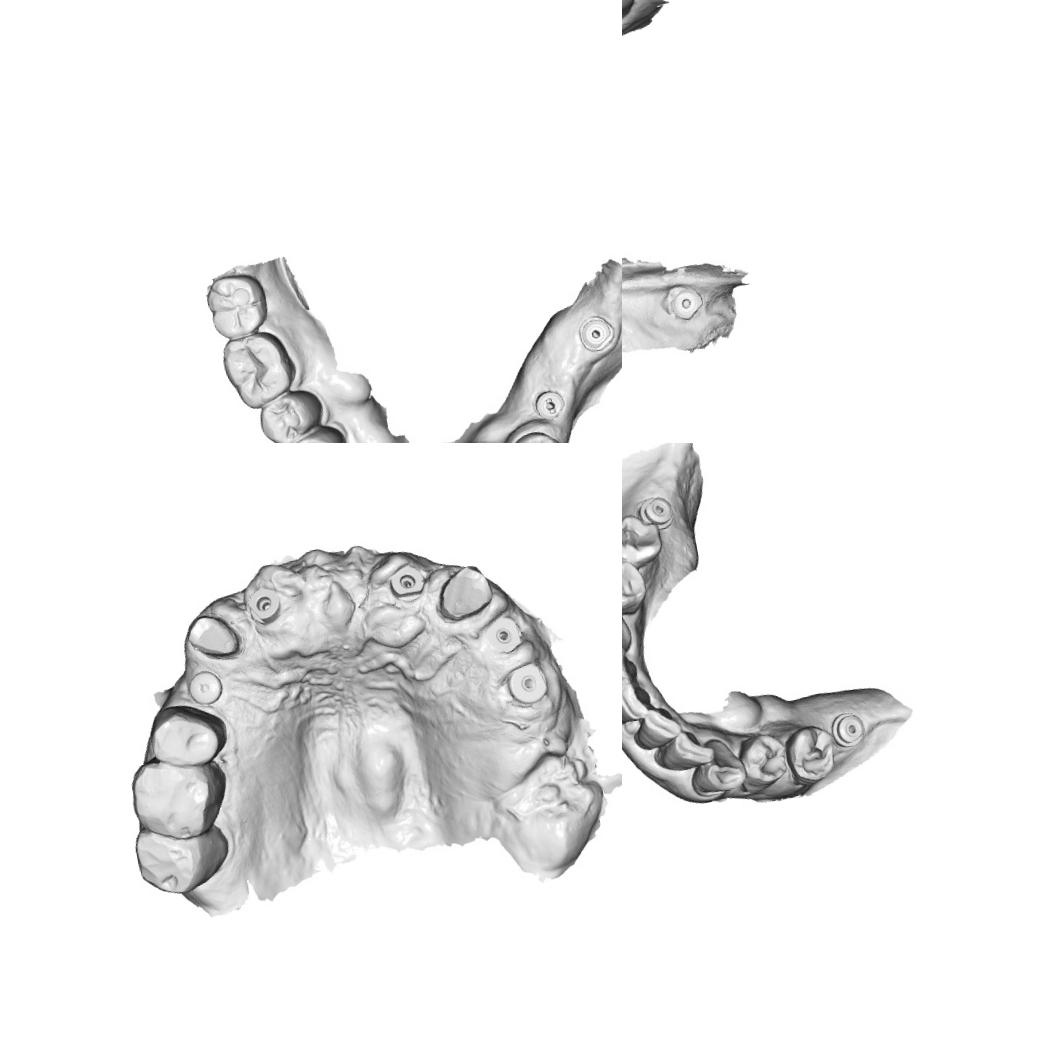canine: (683, 733, 750, 799)
crown: (430, 558, 499, 626), (182, 604, 243, 666)
implant: (504, 660, 550, 708), (631, 490, 677, 534), (485, 612, 528, 658), (243, 583, 285, 629), (180, 666, 226, 708), (575, 311, 618, 355), (385, 561, 429, 604), (827, 708, 869, 750), (666, 283, 706, 324)
implant_minus: (530, 385, 570, 424)
incisor: (648, 724, 716, 776), (628, 701, 684, 752), (622, 676, 656, 728), (622, 642, 641, 696)
molar: (123, 749, 235, 847), (128, 813, 234, 902), (216, 324, 300, 413), (201, 268, 272, 343)
premolar: (142, 694, 234, 781), (253, 384, 330, 443), (780, 720, 842, 790), (732, 728, 792, 796), (622, 509, 665, 573), (622, 554, 651, 622), (280, 425, 348, 443), (507, 425, 569, 443)
